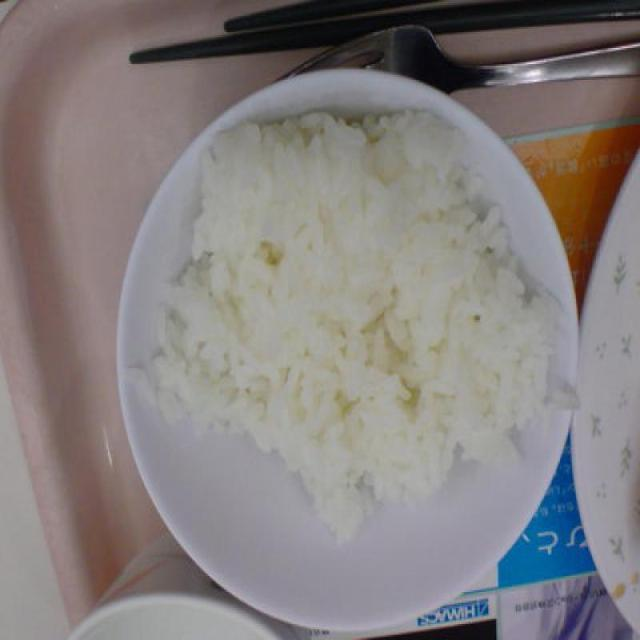nasi_putih: (153, 112, 550, 546)
